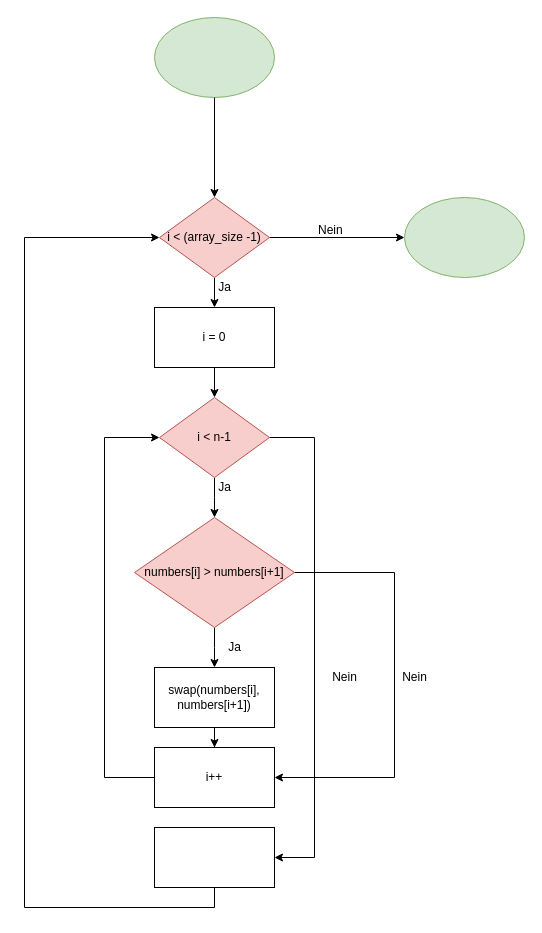
This 542x933 diagram has some shape labels left out. Each missing label, with the box of its shape:
arr_size--: (154, 826, 274, 888)
Ende: (404, 196, 524, 278)
Start Parameter: numbers[], arr_size: (154, 16, 274, 98)
